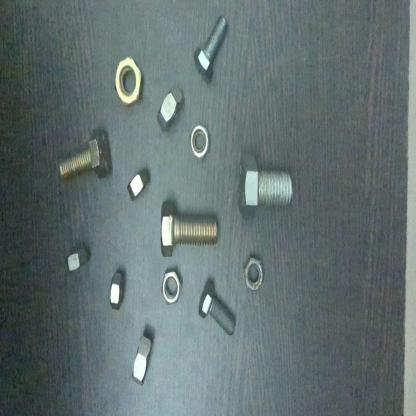Bolts: (150, 198, 221, 261), (228, 155, 297, 219), (58, 129, 113, 202), (193, 277, 240, 344), (190, 13, 230, 81)
NUTS: (113, 53, 148, 111), (129, 330, 158, 390), (157, 82, 185, 133), (63, 240, 94, 284), (106, 266, 128, 322), (160, 264, 184, 311), (127, 161, 150, 209), (242, 249, 267, 293), (188, 118, 214, 159)
